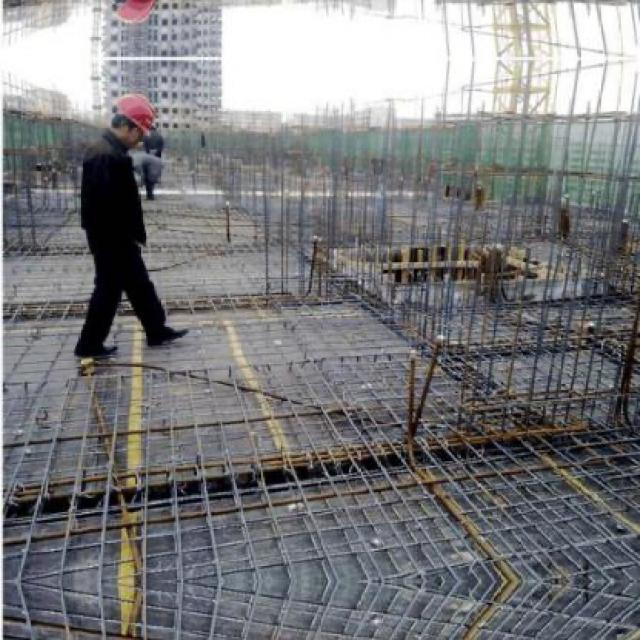helmet: (108, 90, 158, 150), (106, 0, 158, 29)
